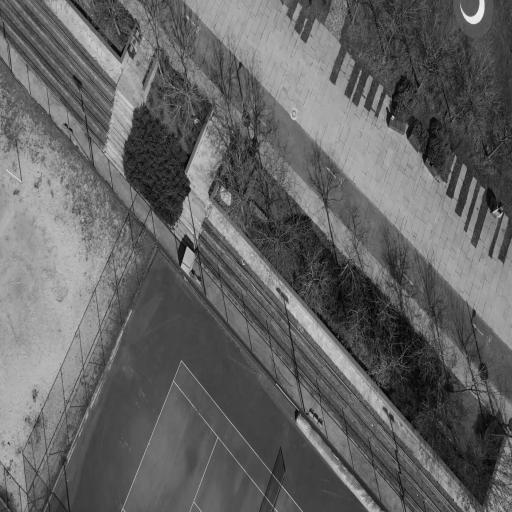UAP: (453, 0, 493, 38)
